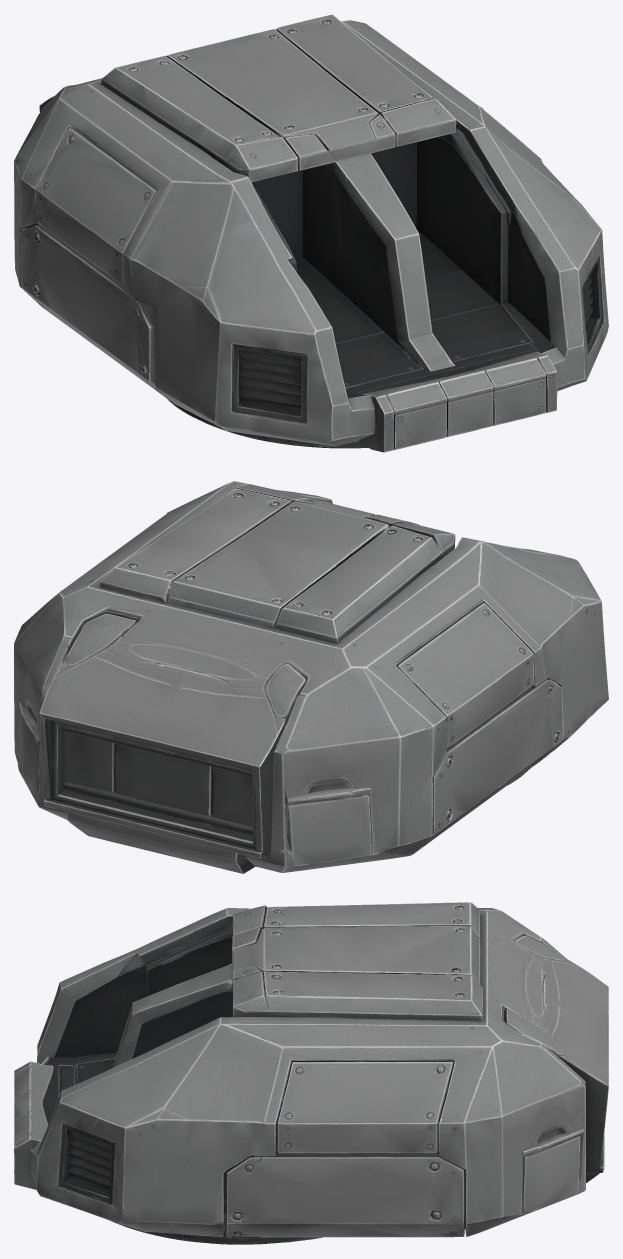
File: shared_flak_tower_compact_option__turret_head.glb
The picture shows the model from 3 angles, top to bottom: view 1: azimuth 30°, elevation 25°; view 2: azimuth 150°, elevation 25°; view 3: azimuth 270°, elevation 25°; orthographic projection. The views are drawn at different scales.
Visible parts, largest first — view 1: mesh_node; view 2: mesh_node; view 3: mesh_node.
Boxes of the visible parts, x1,y1,x2,y2 form: mesh_node: (14, 14, 608, 452); mesh_node: (14, 481, 608, 873); mesh_node: (14, 902, 608, 1244).
Size of the model in its own units: 3.46 by 1.87 by 4.63.
Materials: 1 (1 with a texture image).
